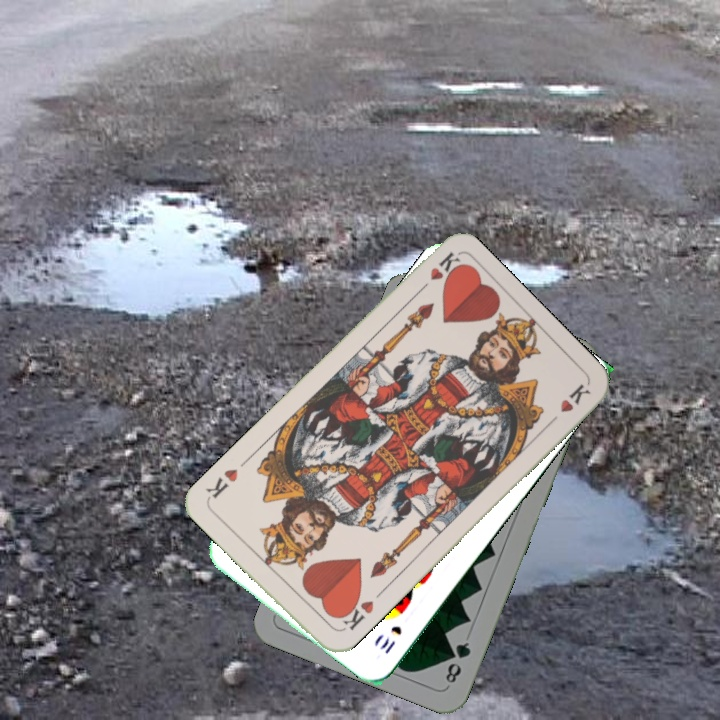G8: (441, 638, 473, 686)
HK: (412, 248, 464, 297), (334, 592, 376, 634)
S10: (375, 621, 405, 657)
